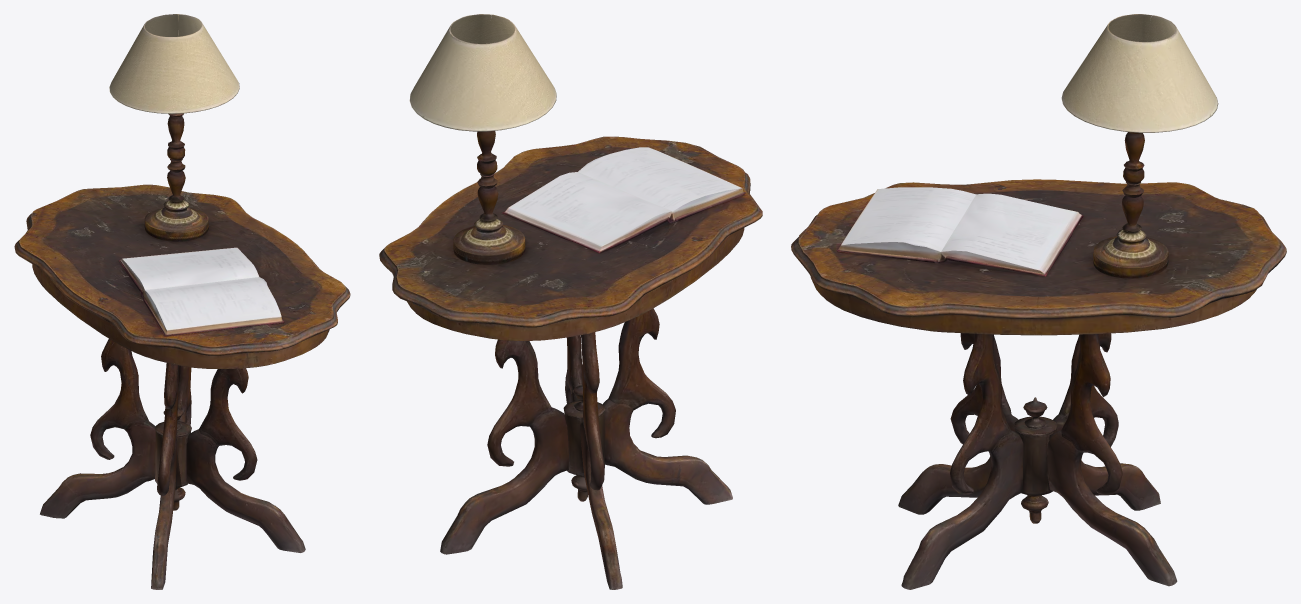
Rendered from library_table.glb.
3 views of the same model, side by side, from view 1: azimuth 30°, elevation 25°; view 2: azimuth 150°, elevation 25°; view 3: azimuth 270°, elevation 25° (orthographic). The views are drawn at different scales.
Parts seen in each view (by area): view 1: Object_3; view 2: Object_3; view 3: Object_3.
Boxes of the visible parts, x1,y1,x2,y2 form: Object_3: [14, 14, 350, 589]; Object_3: [379, 14, 762, 589]; Object_3: [791, 14, 1286, 589].
Bounding box in the file's own units: 0.7016 × 1.37 × 1.12.
2 materials, 1 textured.
